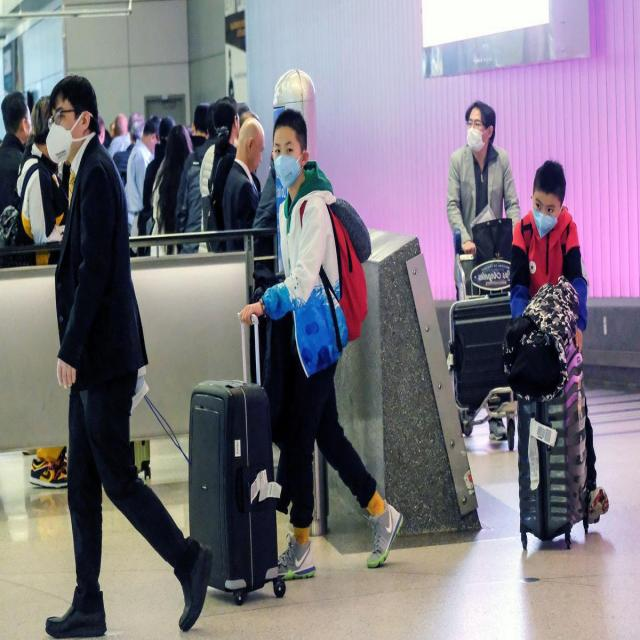face: (45, 98, 84, 169), (271, 127, 303, 192), (235, 116, 268, 178), (532, 188, 564, 239), (466, 107, 491, 156)
